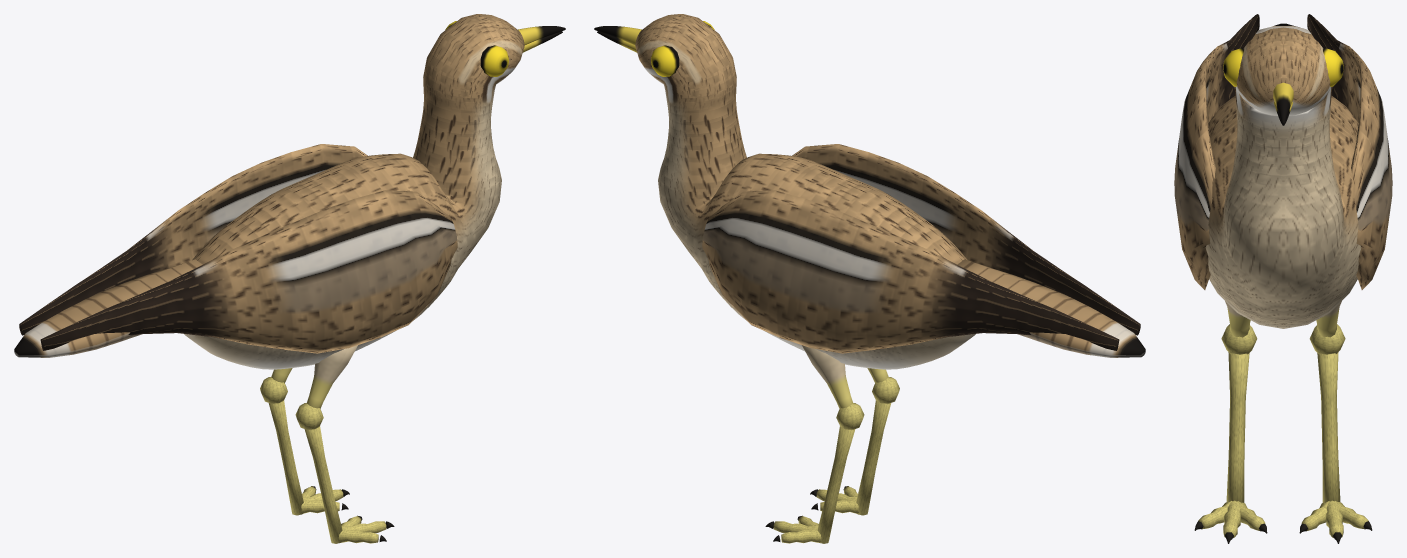
File: curlew_alert.glb
3 views of the same model, side by side, from view 1: azimuth 30°, elevation 25°; view 2: azimuth 150°, elevation 25°; view 3: azimuth 270°, elevation 25° (orthographic). The views are drawn at different scales.
Parts seen in each view (by area): view 1: curlew_body; view 2: curlew_body; view 3: curlew_body.
Boxes of the visible parts, box(x1,y1,x2,y2) form: curlew_body: box(14, 14, 565, 543); curlew_body: box(594, 14, 1145, 543); curlew_body: box(1174, 14, 1392, 543).
Size of the model in its own units: 0.3567 by 0.2926 by 0.0994.
Materials: 1 (1 with a texture image).
